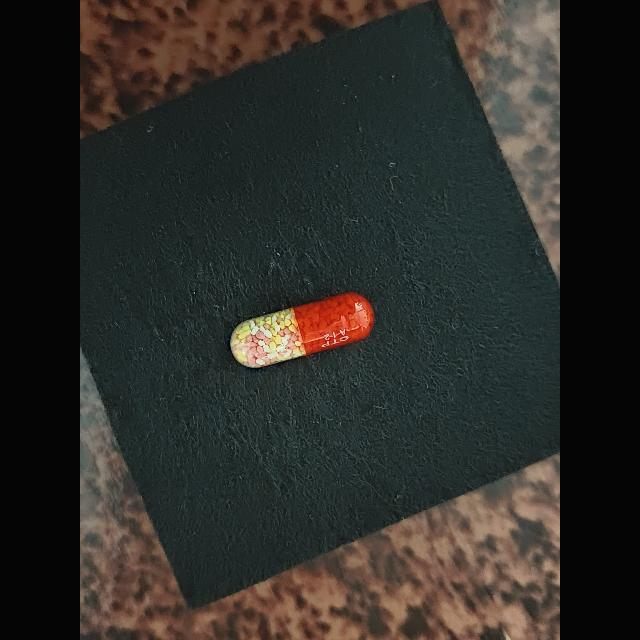Intact Capsule: (230, 292, 375, 368)
